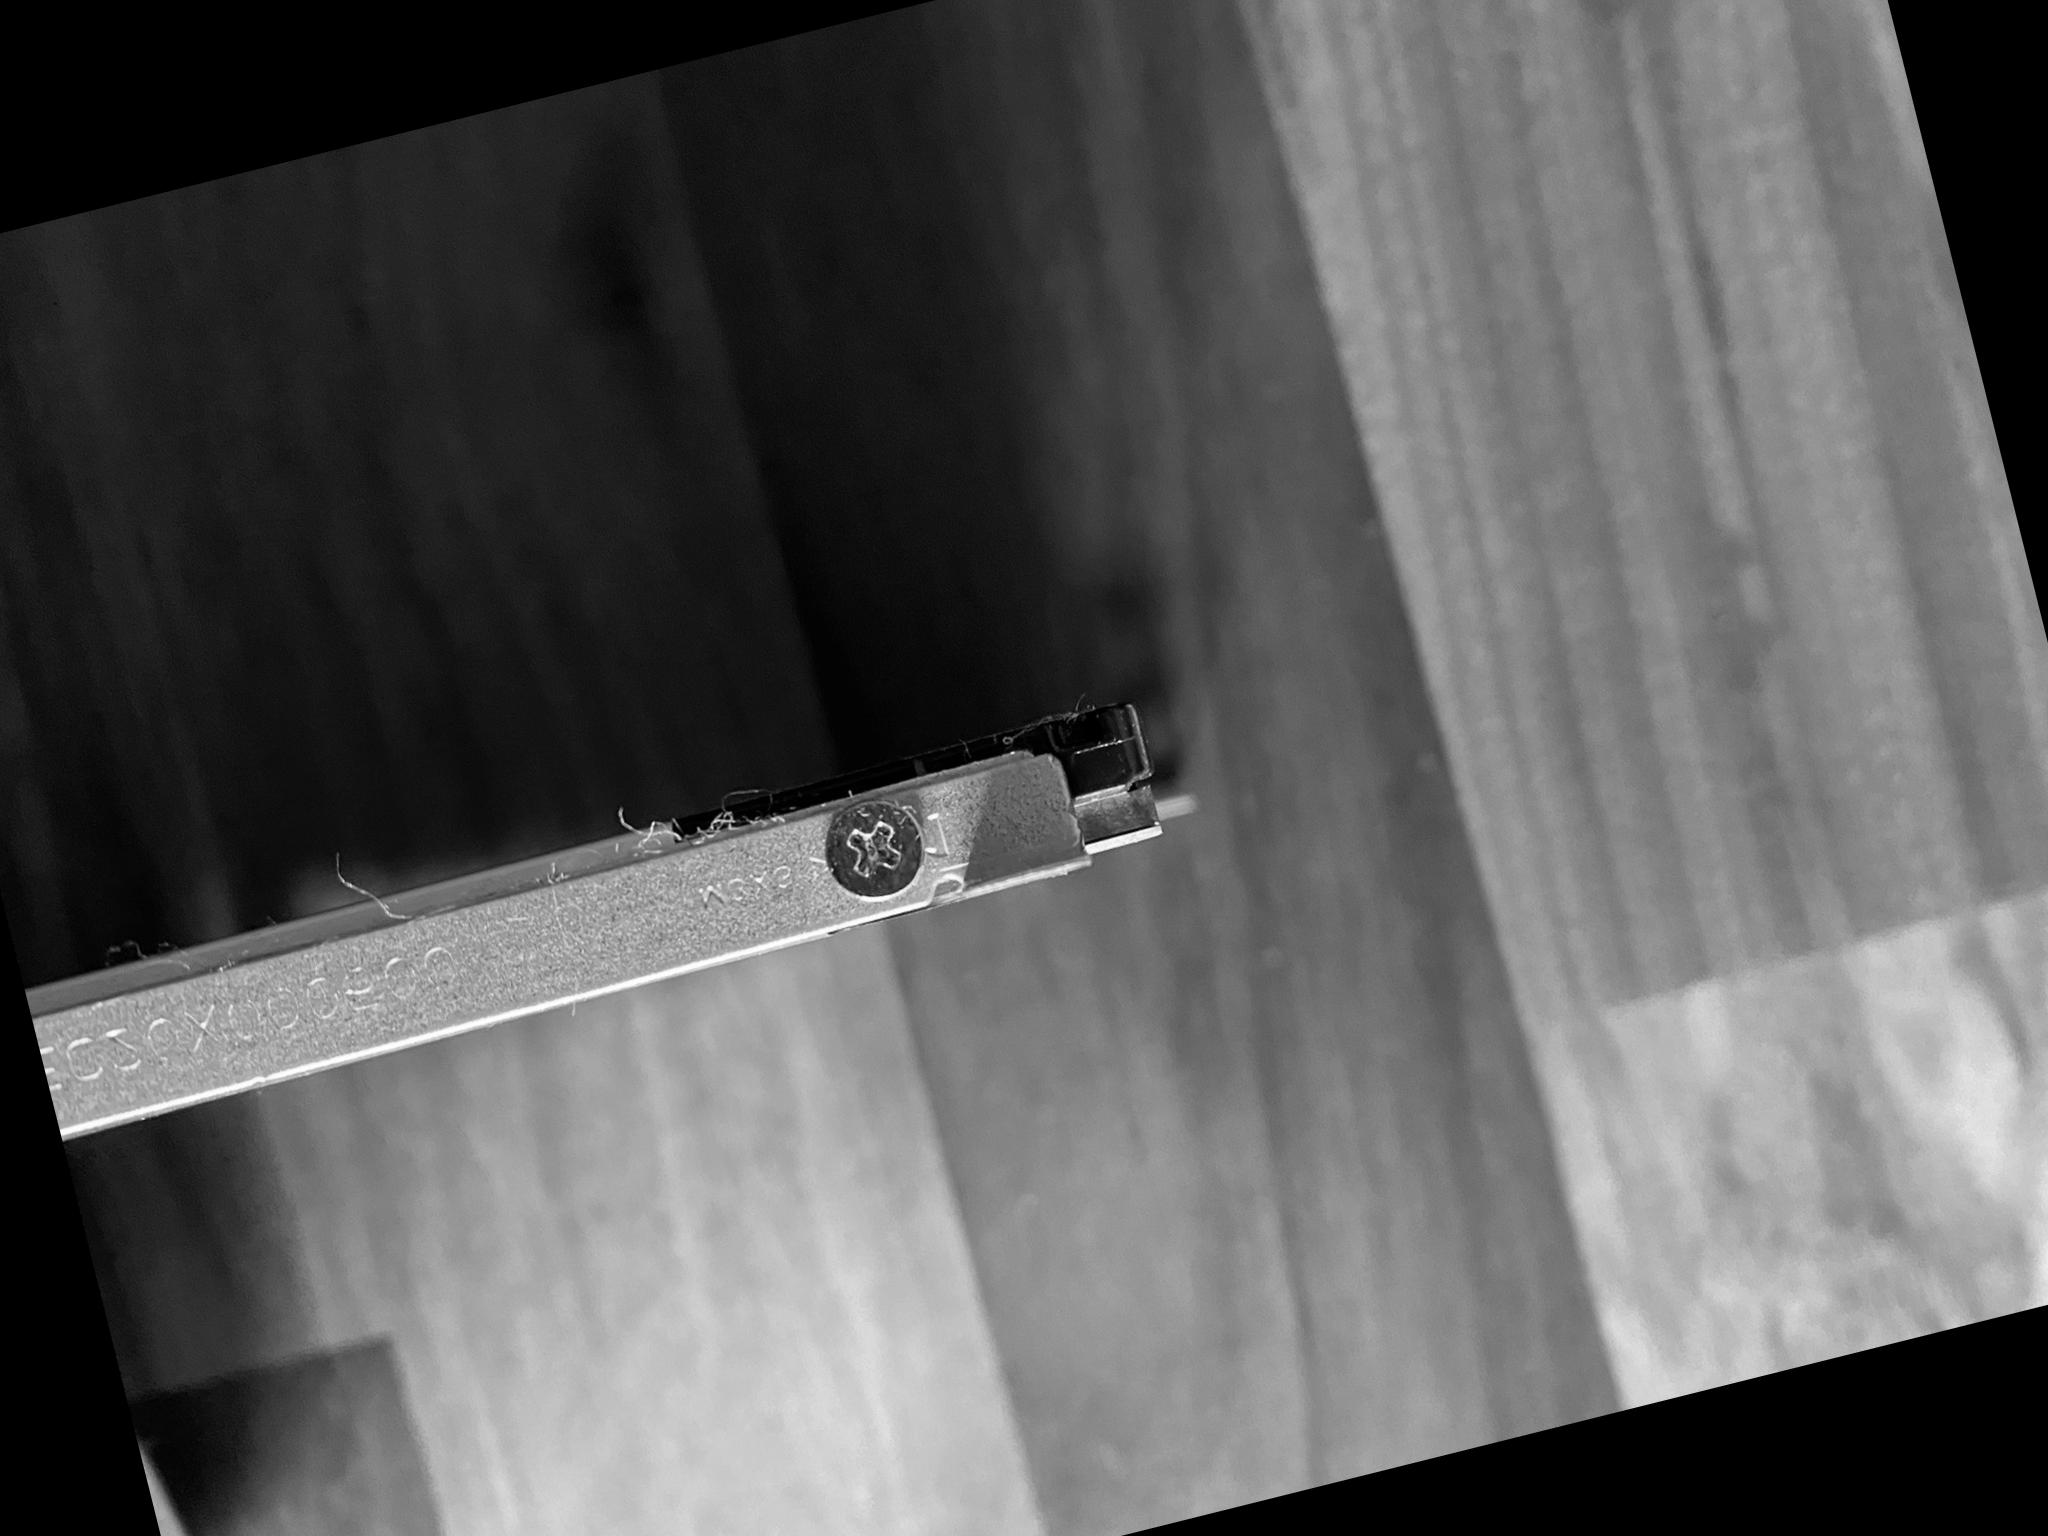PH: (813, 784, 939, 913)
